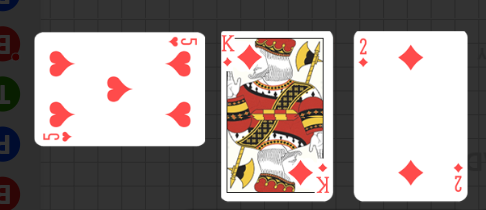2D: (452, 161, 464, 193)
5H: (167, 35, 199, 48), (42, 130, 74, 143)
